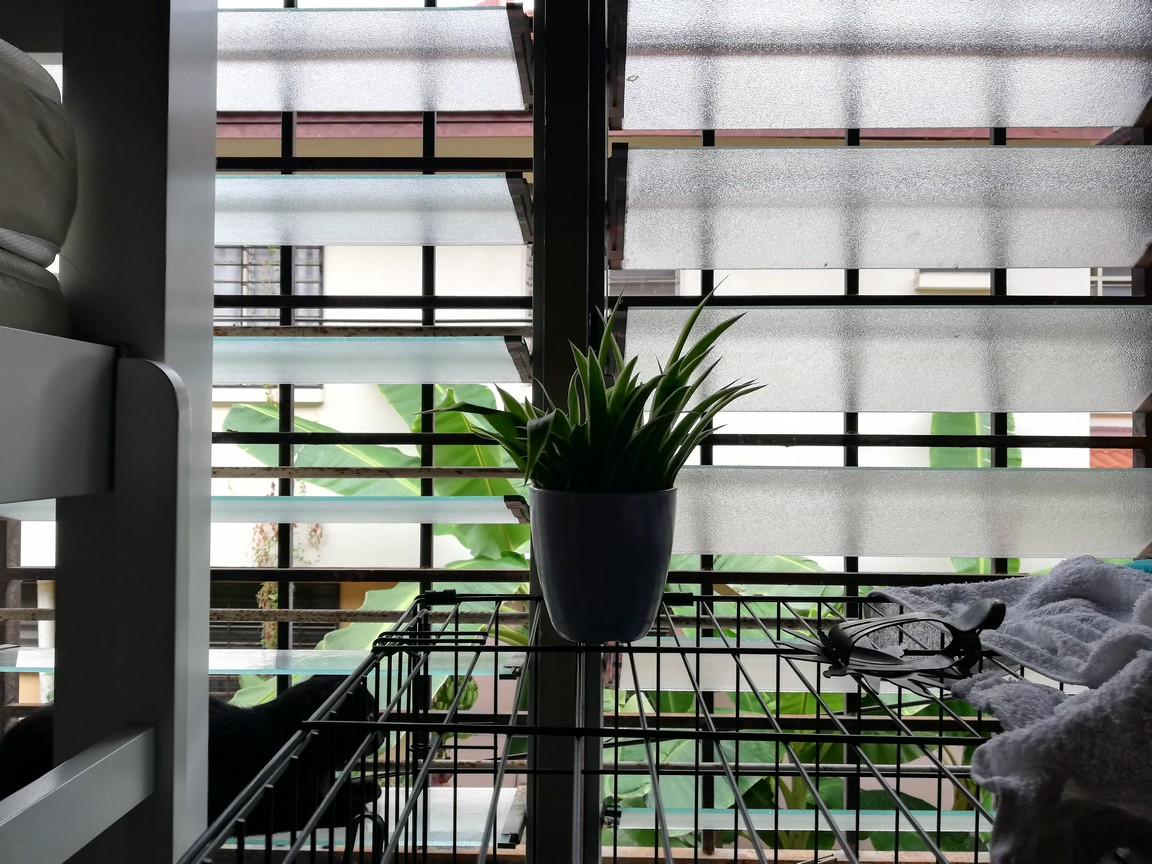daun: (678, 272, 729, 318), (600, 280, 627, 363), (414, 401, 503, 423), (701, 309, 748, 347), (525, 421, 549, 489), (718, 381, 771, 405), (492, 379, 523, 417), (587, 342, 606, 404), (566, 338, 588, 389), (692, 355, 726, 387), (469, 425, 508, 449), (531, 373, 555, 408), (698, 422, 728, 443), (664, 354, 688, 380), (717, 375, 746, 392), (693, 344, 720, 360), (626, 367, 645, 389), (736, 376, 760, 393), (522, 392, 538, 416), (622, 353, 640, 371), (653, 352, 665, 374), (594, 304, 606, 323)
